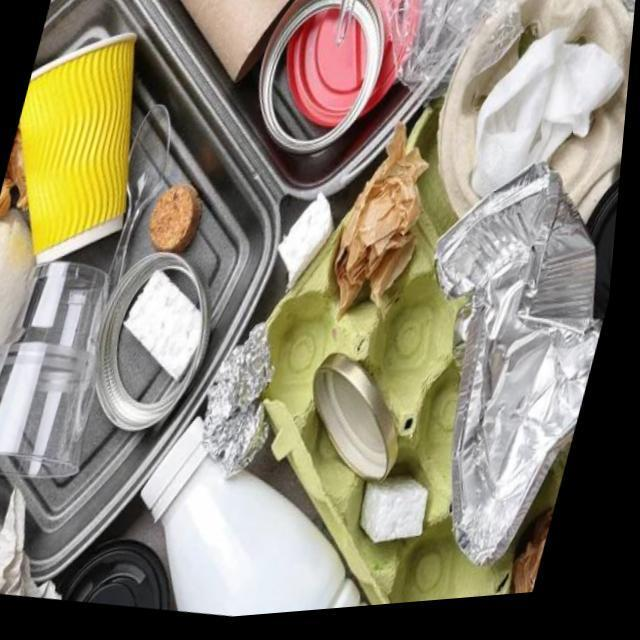Metal: (441, 174, 608, 573), (103, 256, 216, 433), (261, 0, 384, 159), (321, 359, 407, 488), (211, 327, 282, 482)
Plastic: (0, 262, 114, 480), (113, 108, 174, 294), (336, 0, 358, 51)
contaminated_waste: (27, 0, 420, 582), (0, 473, 23, 526)
